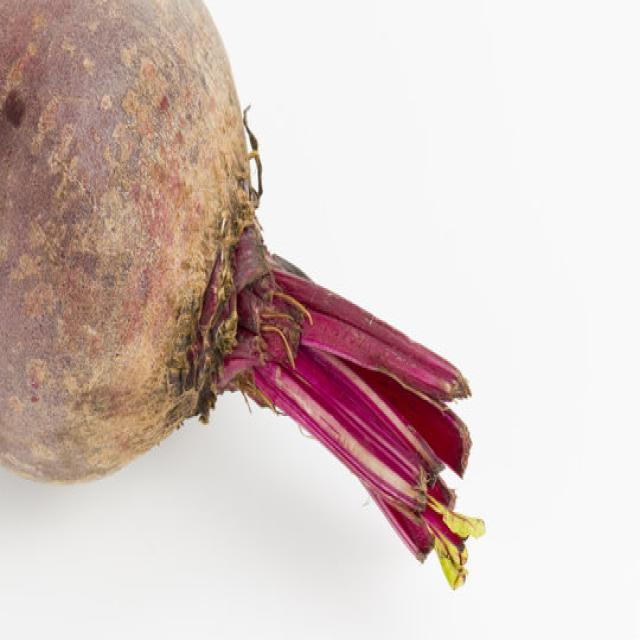Beetroot: (0, 0, 411, 512)
